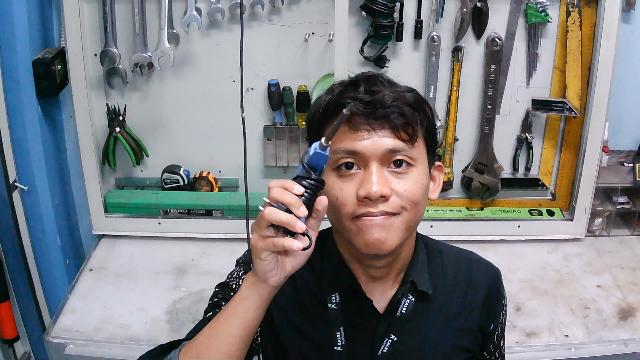solder_electrical: (259, 101, 355, 255)
